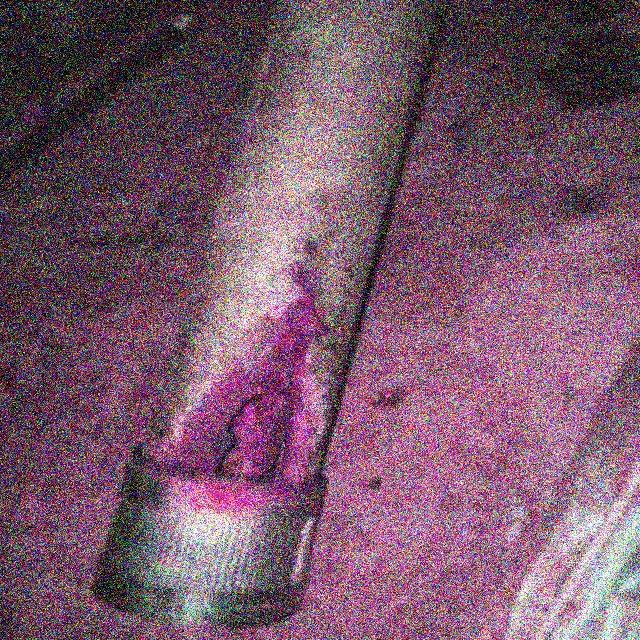Hole: (209, 350, 325, 512)
